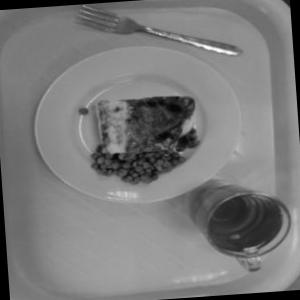casserole: (58, 61, 233, 201)
tea: (175, 161, 300, 278)
